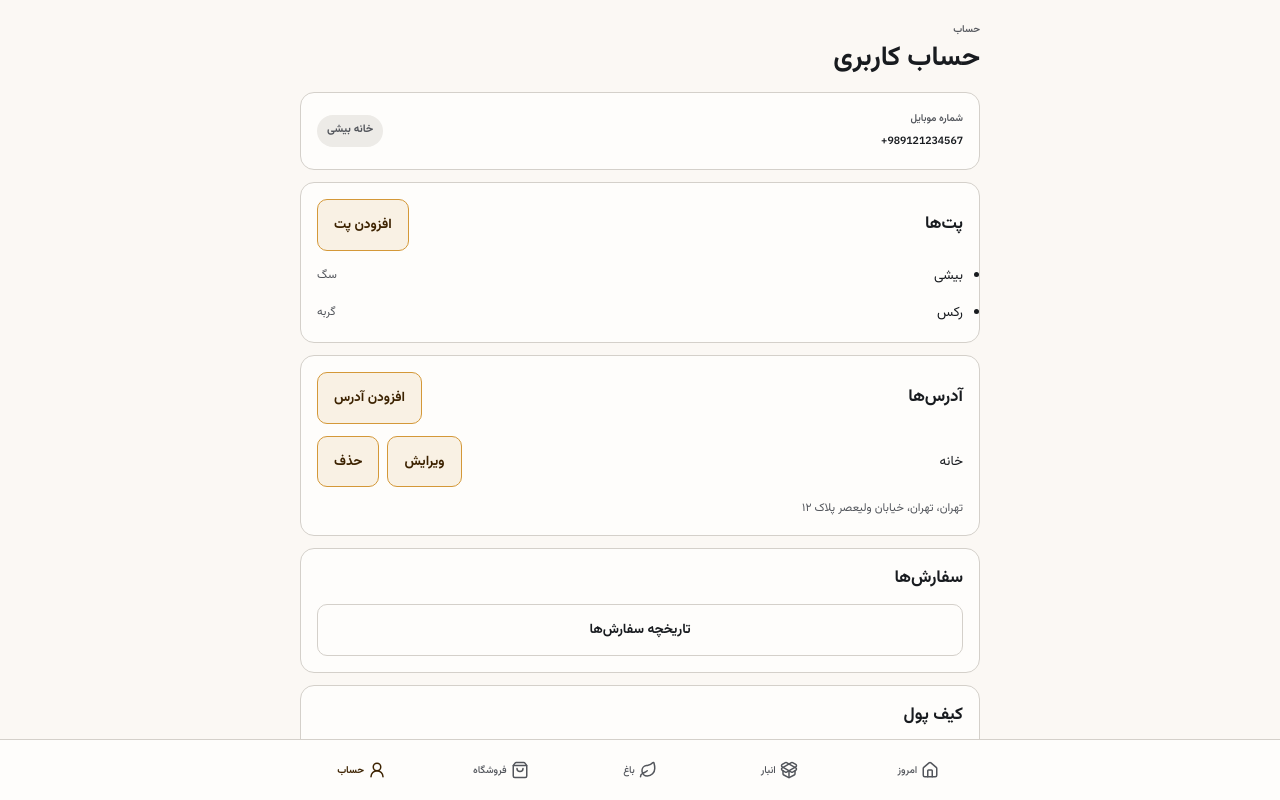
AccountOverview › edits an address and refreshes the list from the real update response
Expected: the text "خانه" is shown, [940, 449, 963, 474]
Click the button "ویرایش" at (425, 462), box [388, 436, 462, 487]
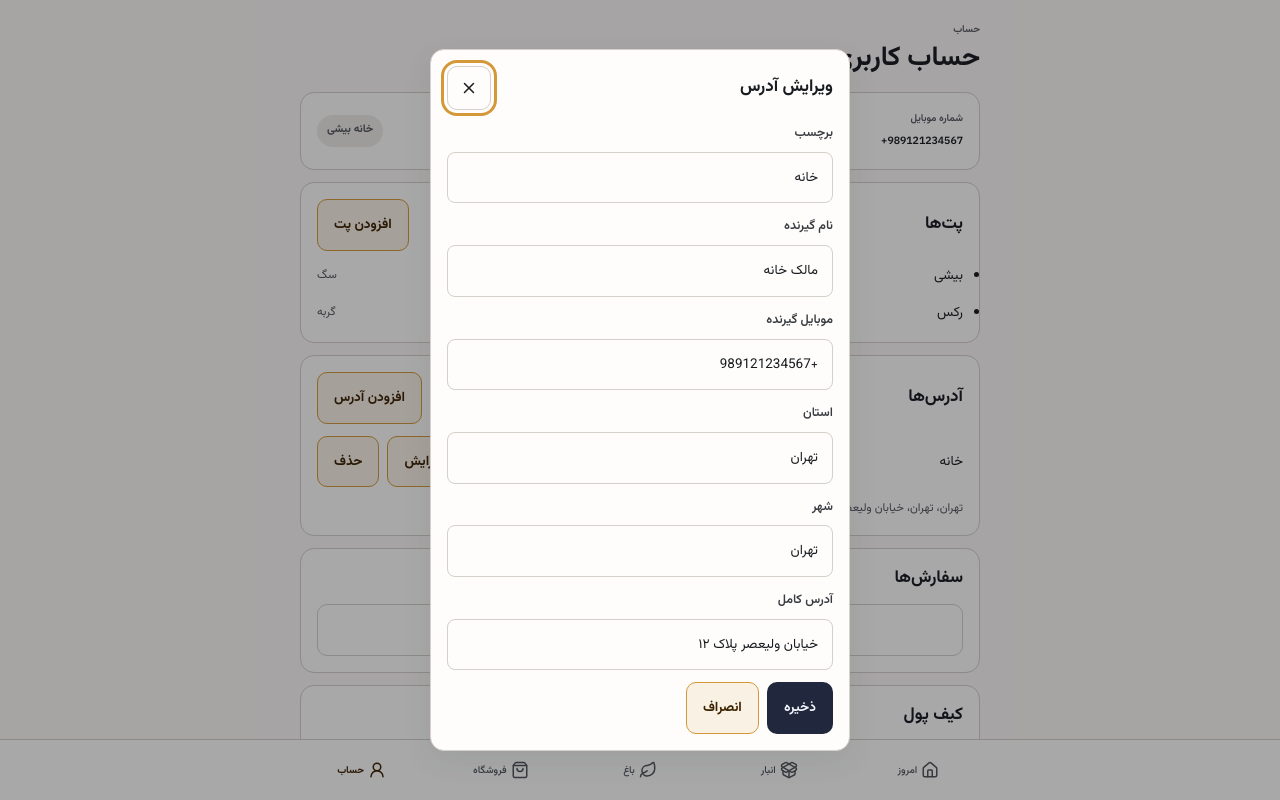
Replace the text in the field labelled "برچسب" with "محل کار" at (640, 178), box [447, 152, 833, 203]
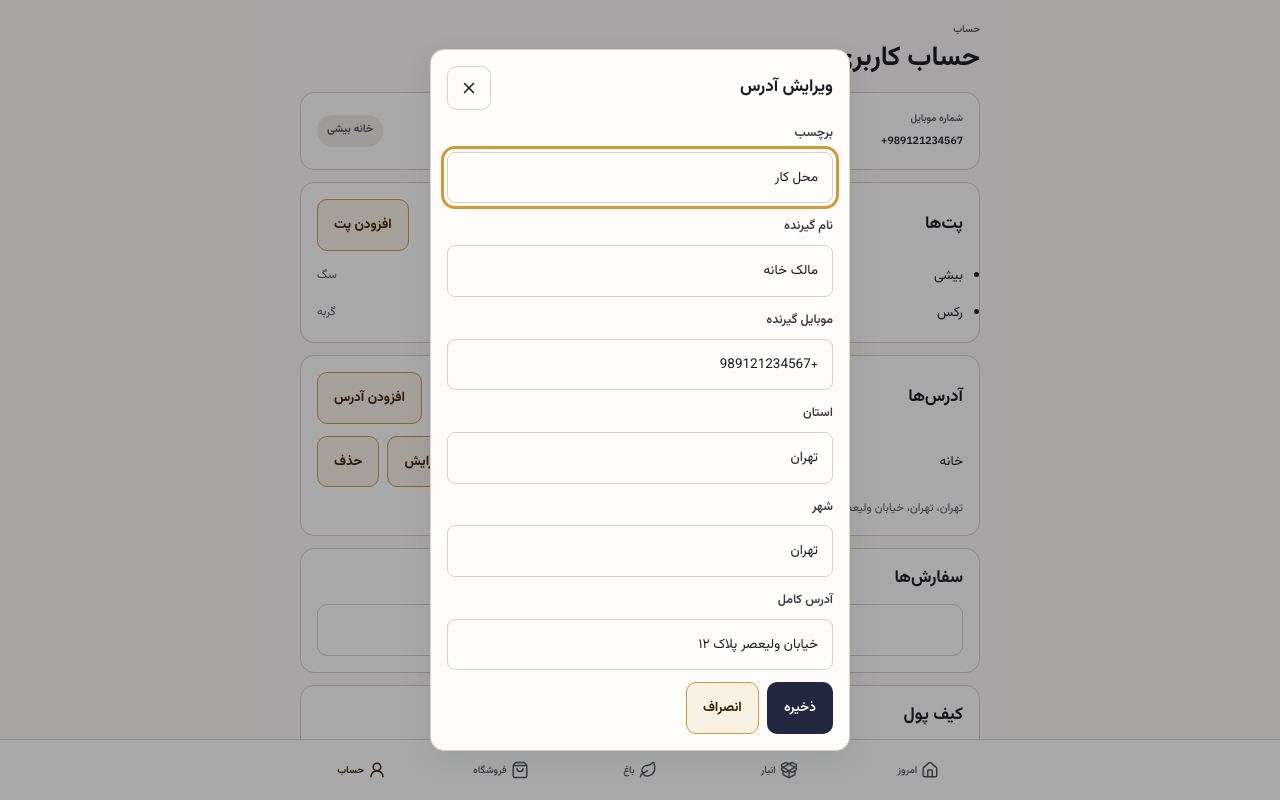
Click the button "ذخیره" at (800, 708), box [767, 682, 833, 734]
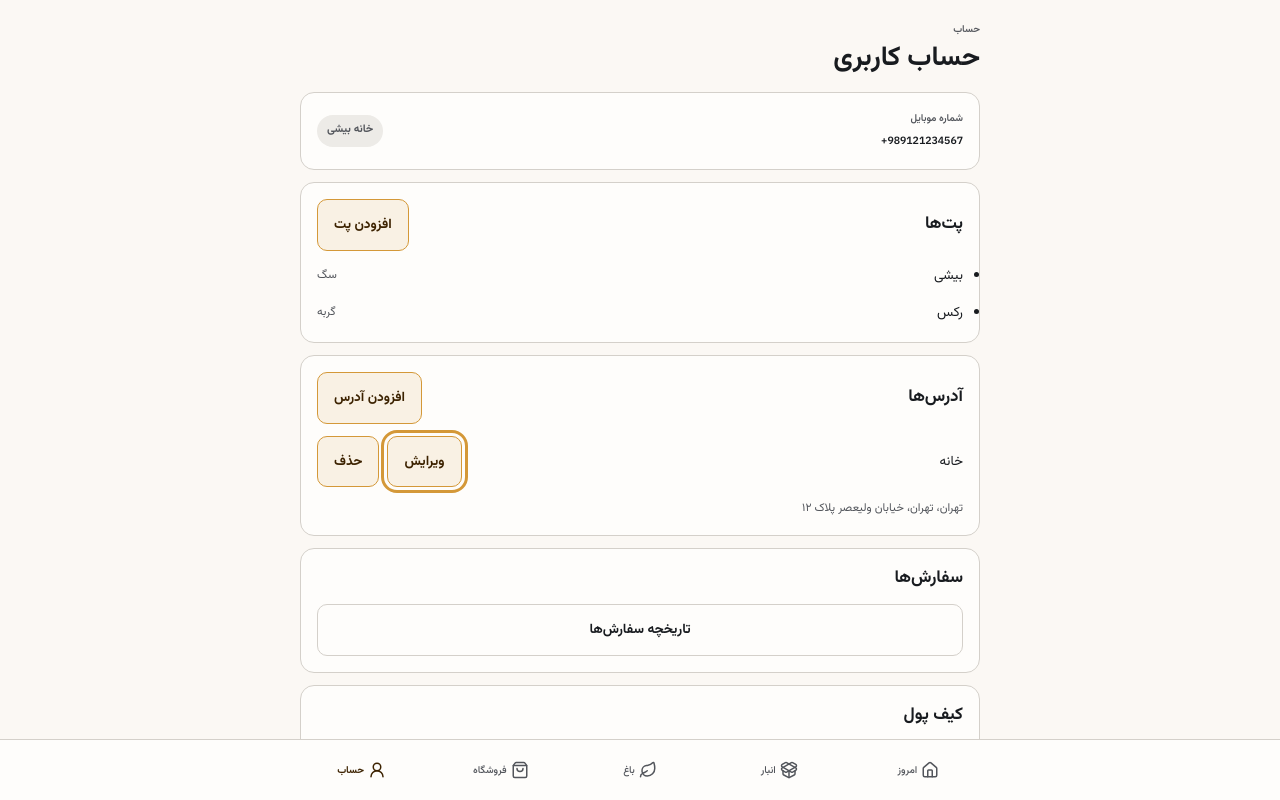
Now the heading "ویرایش آدرس" is gone
